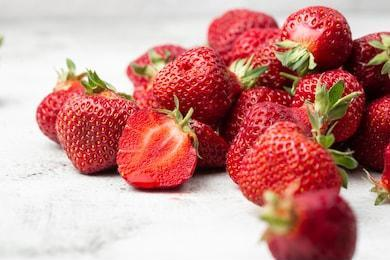Fresa: (53, 89, 147, 178), (149, 43, 238, 126), (293, 67, 366, 145), (279, 3, 354, 73)
